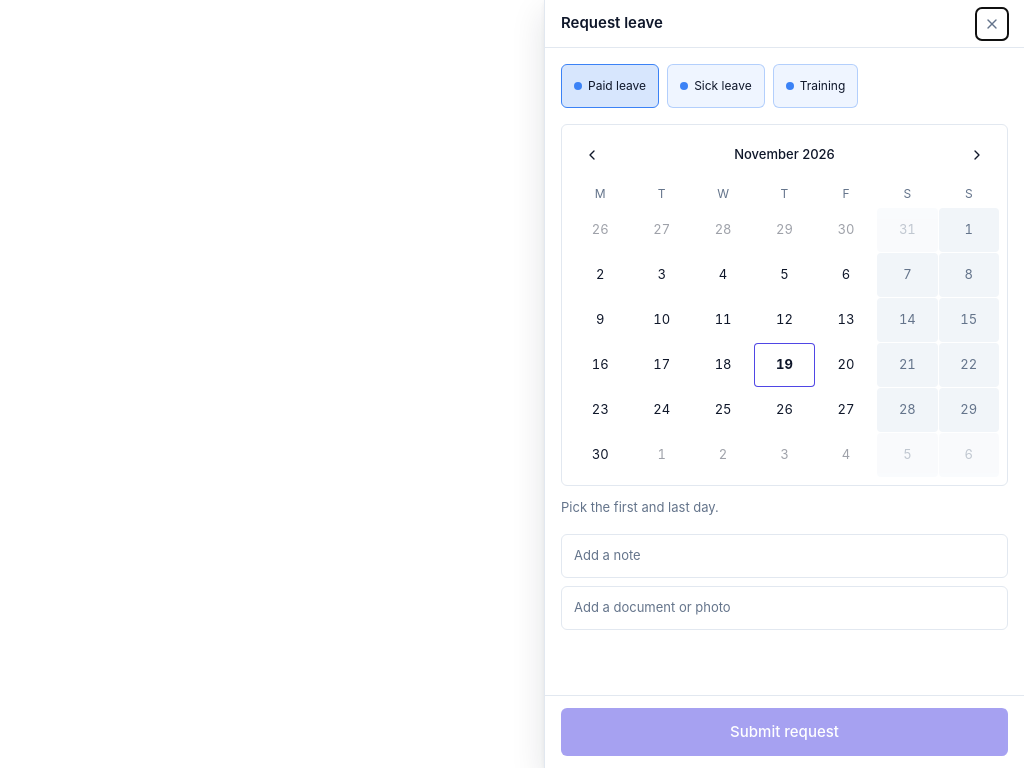
it: RequestSheet › sick leave without a certificate is allowed and flagged
The width and height of the screenshot is (1024, 768).
Click the button "Sick leave" at (716, 86), box [667,64,765,108]
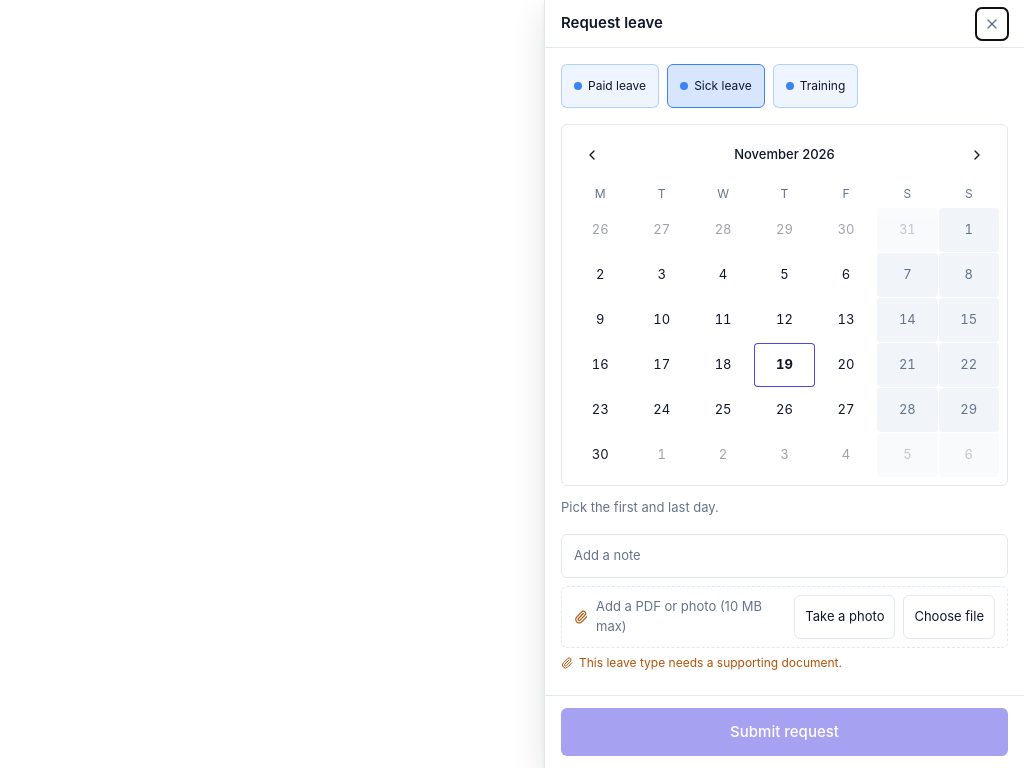
Click the button "16" at (600, 365), box [570,343,630,387]
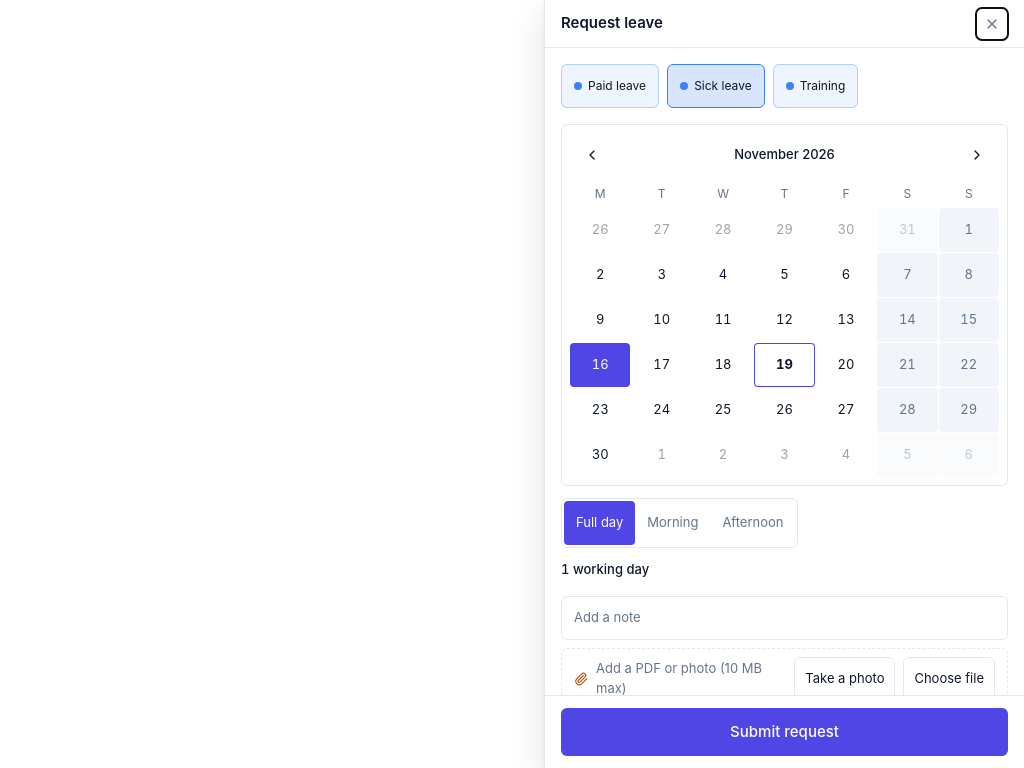
Click the button "17" at (662, 365), box [631,343,692,387]
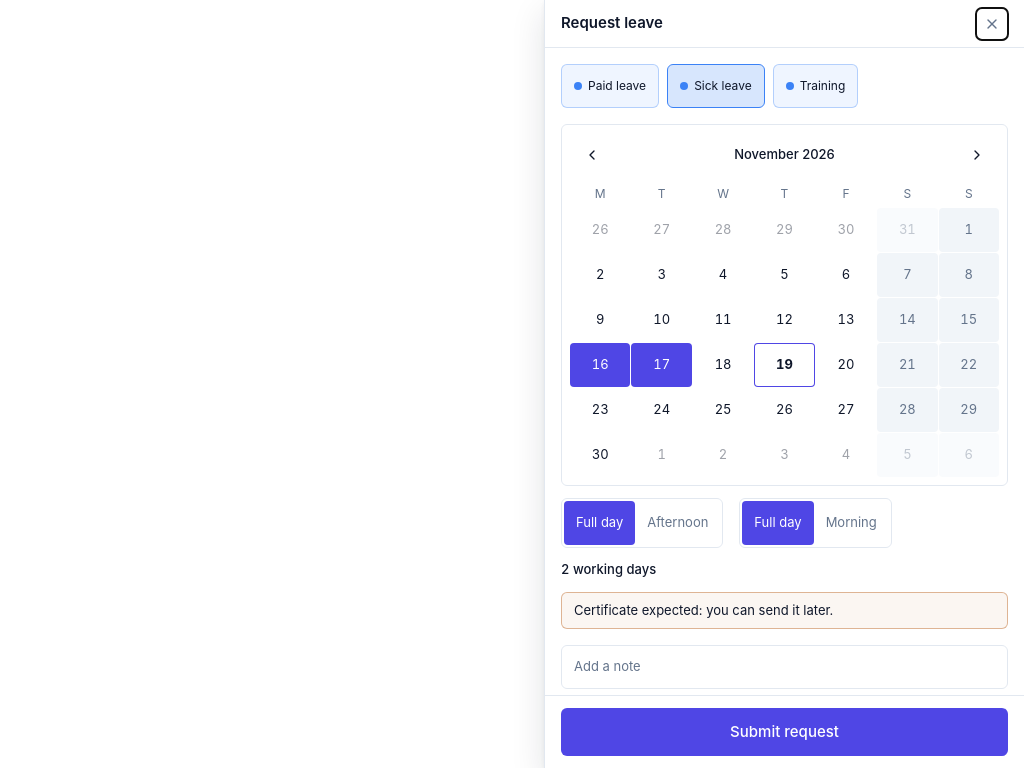
Expected: the button "Submit request" is enabled, [561,708,1008,756]
Expected: the text "2 working days" is shown, [561,561,656,577]
Expected: the text "Certificate expected: you can send it later." is shown, [561,592,1008,629]
